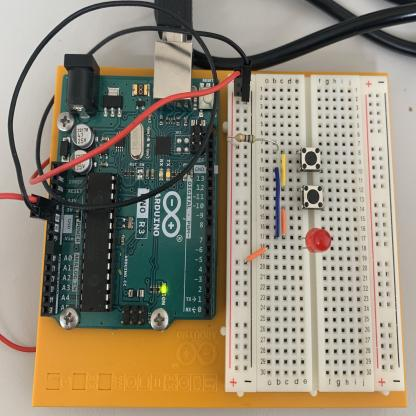5V: (48, 66, 241, 185), (0, 179, 45, 372)
ARDUINO: (41, 75, 219, 341)
Breadboard: (227, 77, 405, 401)
Button: (302, 185, 324, 209), (301, 147, 321, 171)
GND: (0, 0, 209, 223), (27, 22, 237, 223)
LED: (305, 228, 332, 253)
Long wire: (275, 167, 281, 239)
Resistor: (235, 133, 257, 143)
Short wire: (247, 247, 267, 262), (281, 153, 286, 186), (281, 209, 287, 235)
